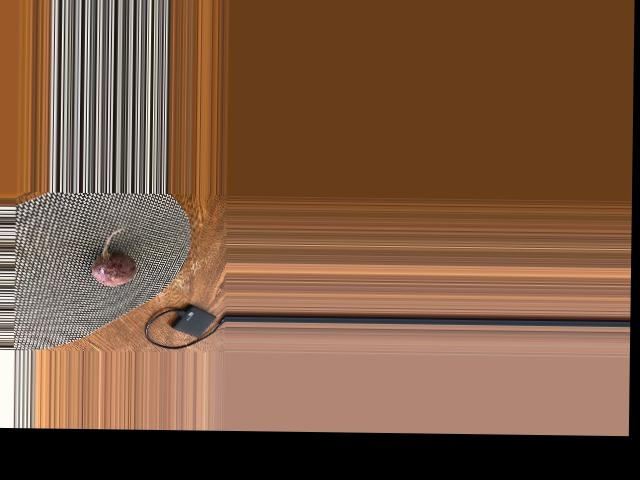beet: (91, 226, 137, 285)
